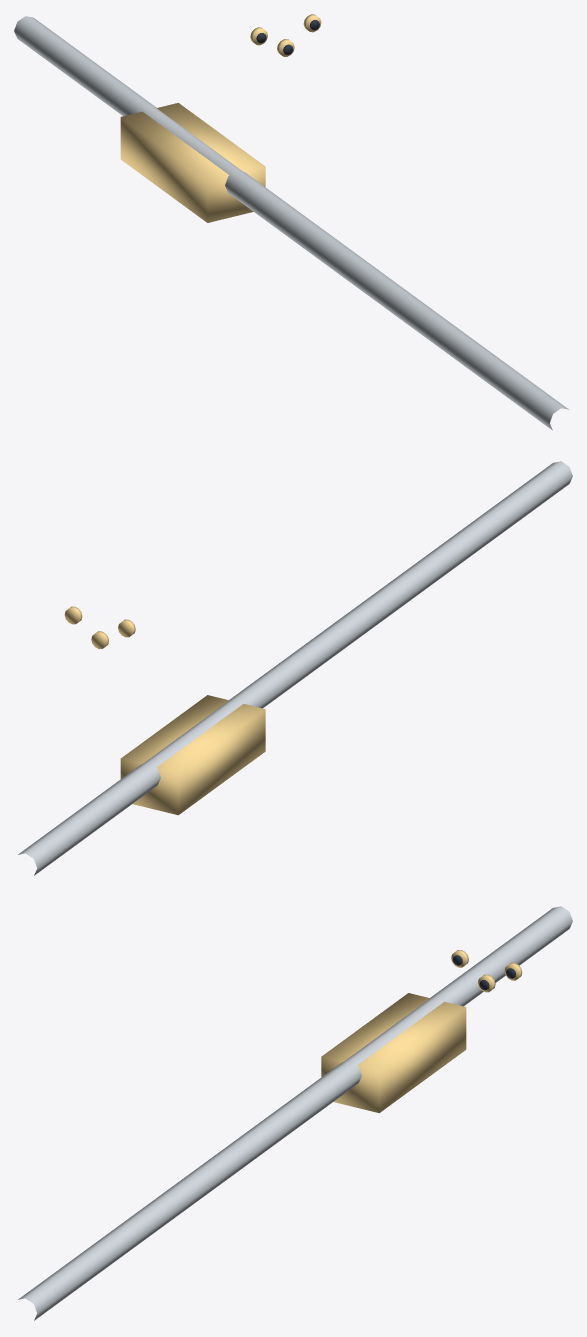
Rendered from 10_L91_ExteriorInspectionRail.glb.
3 views of the same model, one above another, from view 1: azimuth 30°, elevation 25°; view 2: azimuth 150°, elevation 25°; view 3: azimuth 330°, elevation 25° (orthographic).
Visible parts, largest first — view 1: L91_ExteriorInspectionRail; view 2: L91_ExteriorInspectionRail; view 3: L91_ExteriorInspectionRail.
Part boxes in pixels (x1,y1,x2,y2): L91_ExteriorInspectionRail: [14, 16, 568, 430]; L91_ExteriorInspectionRail: [18, 461, 572, 875]; L91_ExteriorInspectionRail: [18, 906, 572, 1320].
Size of the model in its own units: 1.34 by 1.15 by 8.
